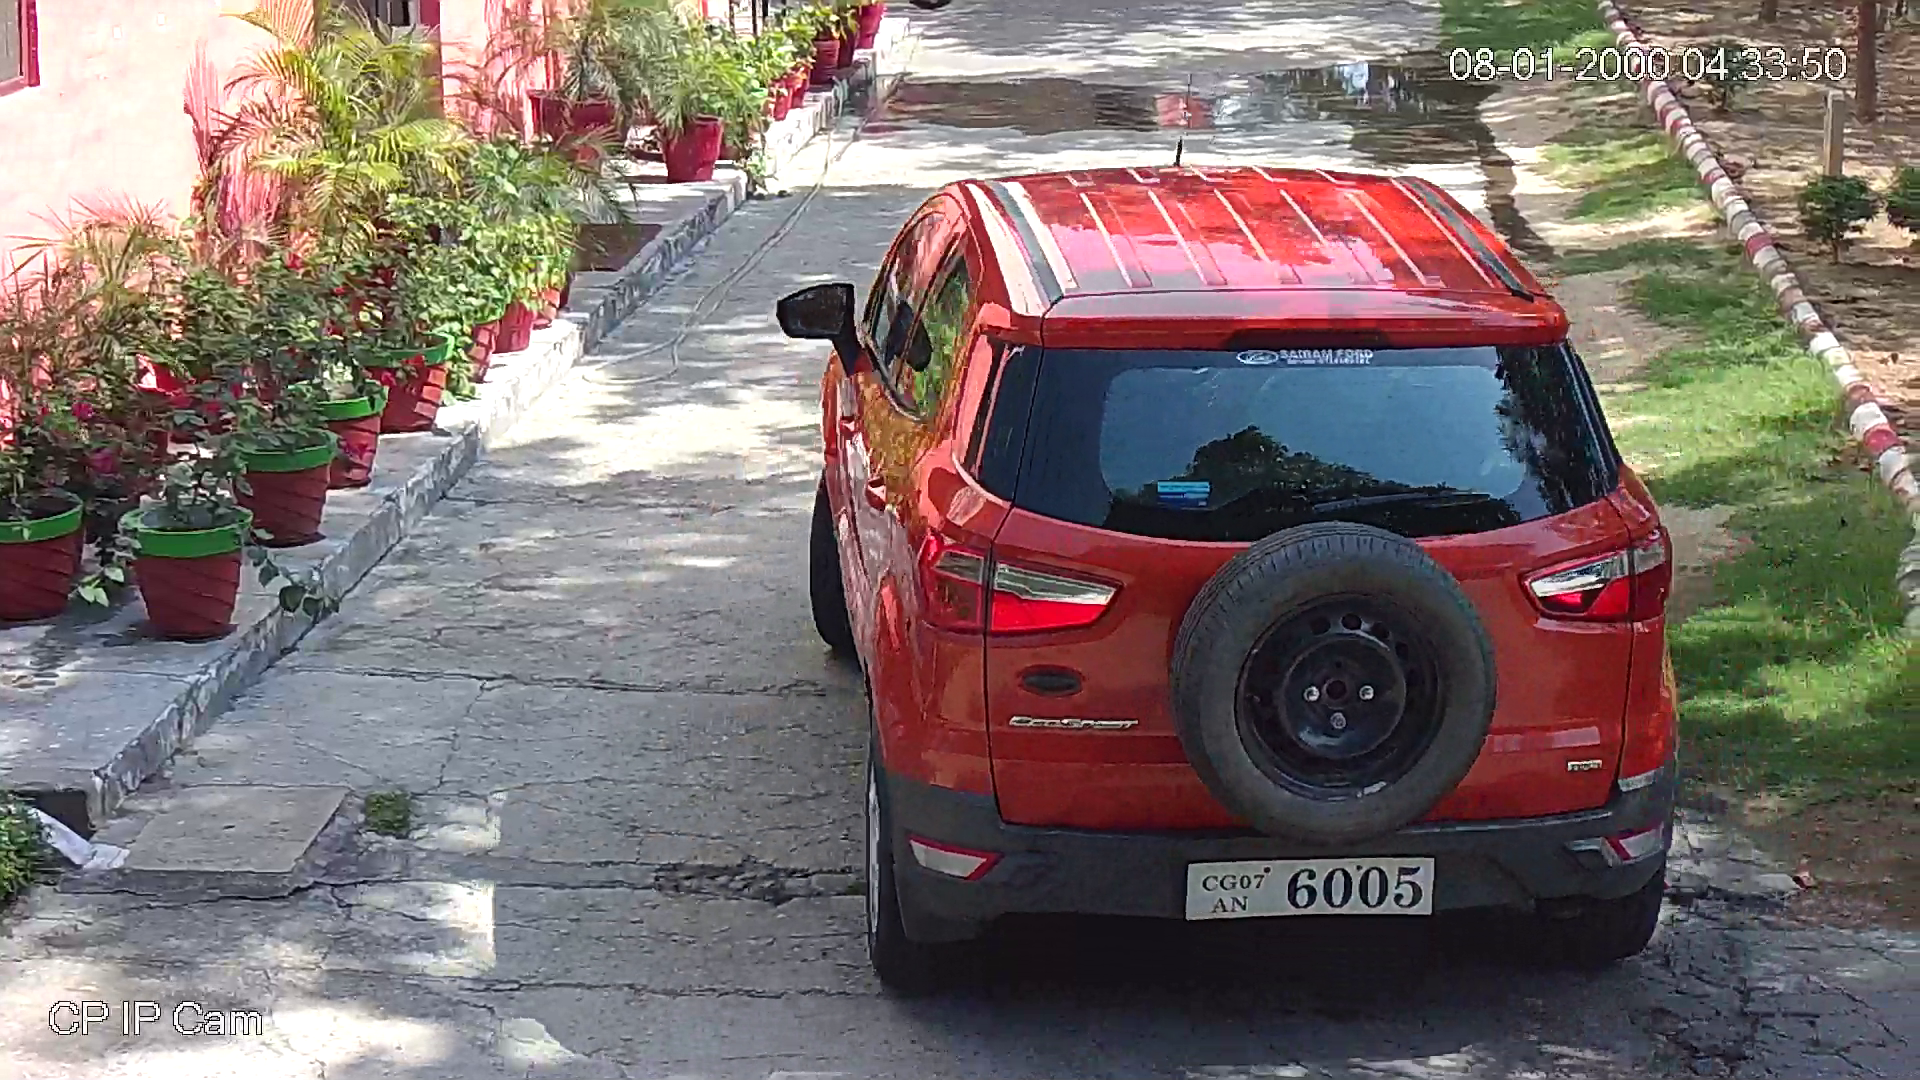plate: (1177, 848, 1440, 924)
